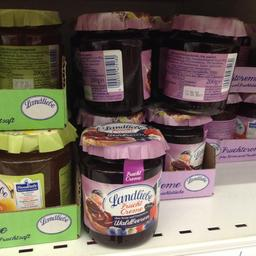jam: (78, 121, 164, 248), (74, 11, 154, 112), (162, 12, 239, 114), (0, 130, 72, 210), (0, 7, 63, 88)
